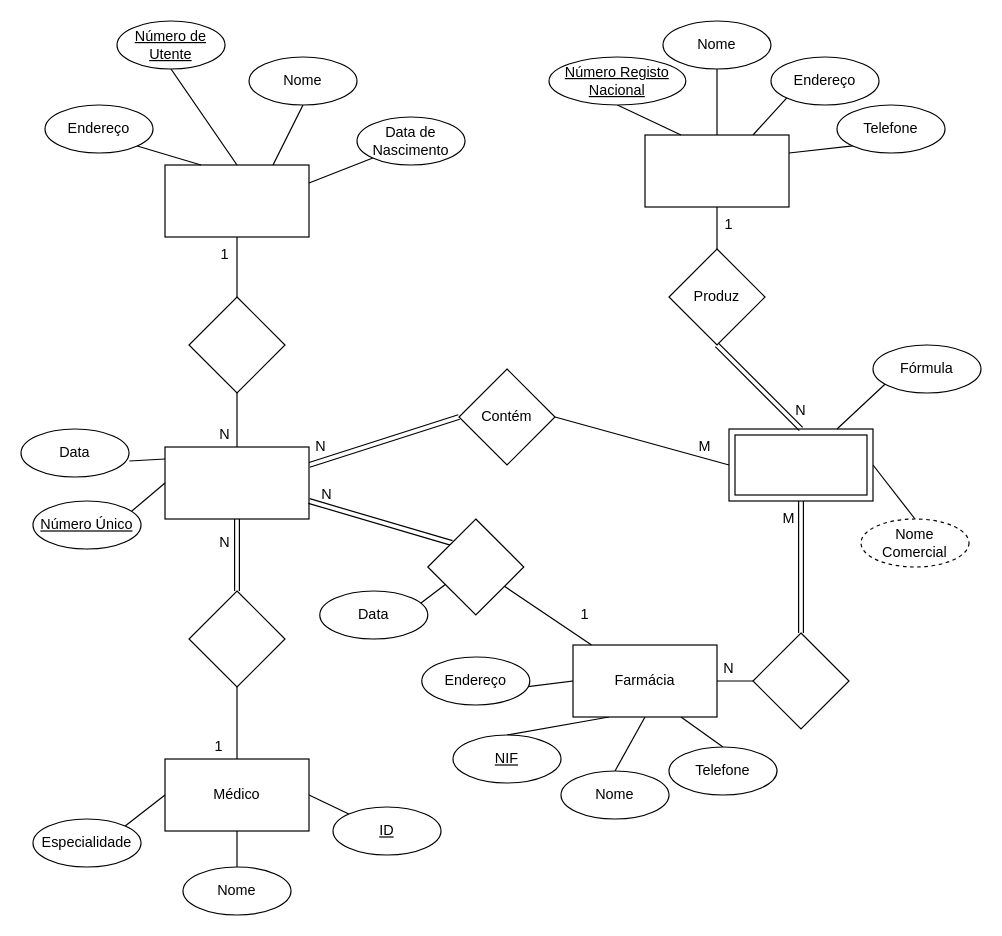
Some shapes in this 1002 by 936 pixel diagram are drawn without their labels. The centre of each missing label's shape, as x and y in pixels:
"Farmacêutica" goes at point 716,170.
"Fármaco" goes at point 800,464.
"Paciente" goes at point 236,200.
"Prescreve" goes at point 236,638.
"Prescrição" goes at point 236,482.
"Processa" goes at point 475,566.
"Vende" goes at point 800,680.
